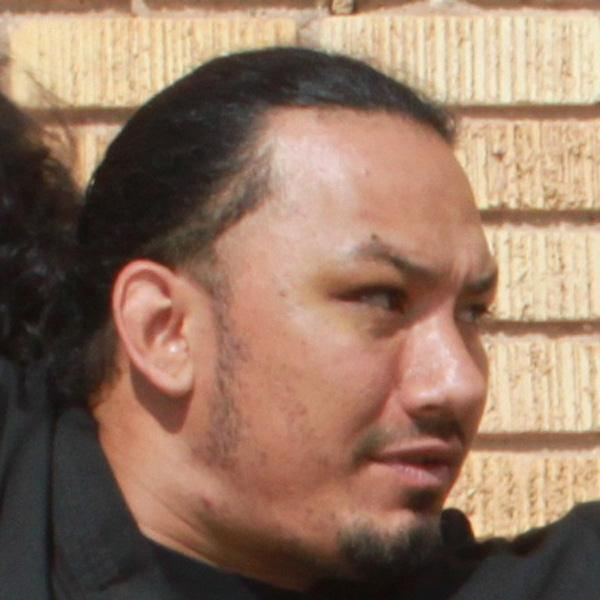Eyes: (331, 268, 414, 329), (451, 288, 488, 341)
